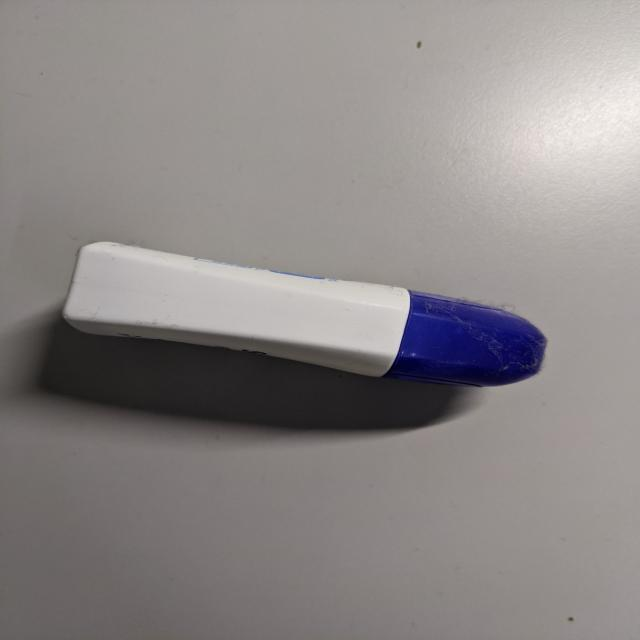Plastic: (58, 235, 542, 384)
